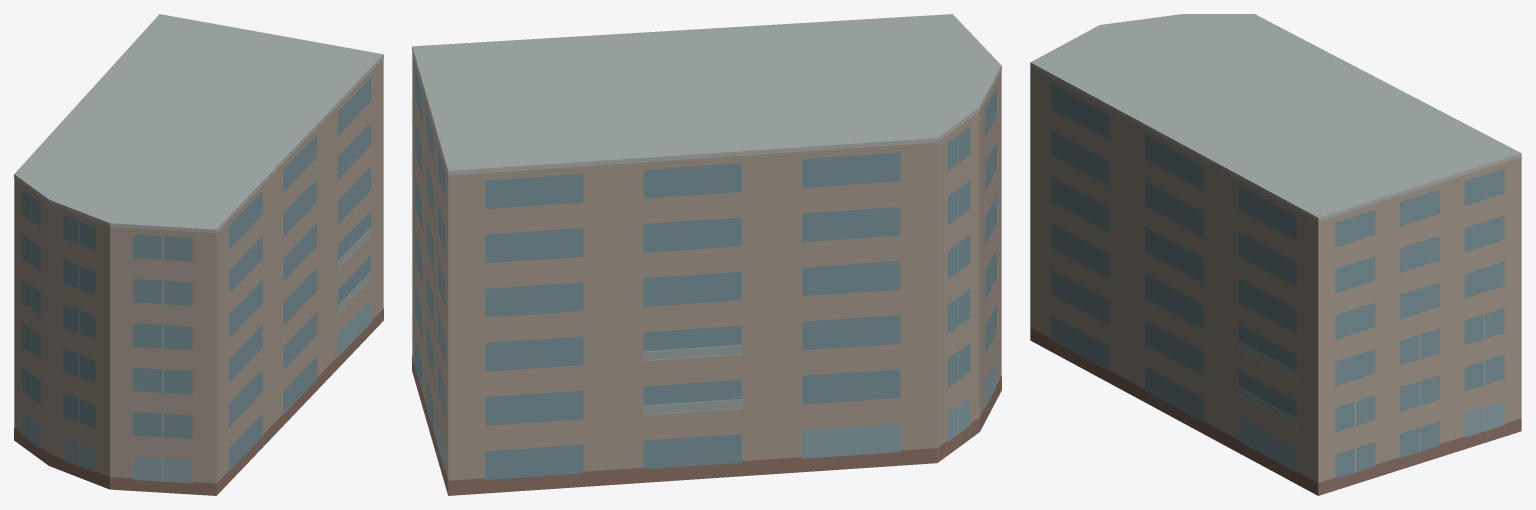
File: survey-upis-32728008.glb
The picture shows the model from 3 angles, left to right: view 1: azimuth 30°, elevation 25°; view 2: azimuth 150°, elevation 25°; view 3: azimuth 270°, elevation 25°; orthographic projection. The views are drawn at different scales.
Parts seen in each view (by area): view 1: survey-upis-32728008.tmp; view 2: survey-upis-32728008.tmp; view 3: survey-upis-32728008.tmp.
Part boxes in pixels (bbox=[...]): survey-upis-32728008.tmp: bbox=[14, 14, 383, 495]; survey-upis-32728008.tmp: bbox=[412, 14, 1001, 495]; survey-upis-32728008.tmp: bbox=[1030, 14, 1521, 495].
Bounding box in the file's own units: 27.91 × 17.75 × 28.42.
